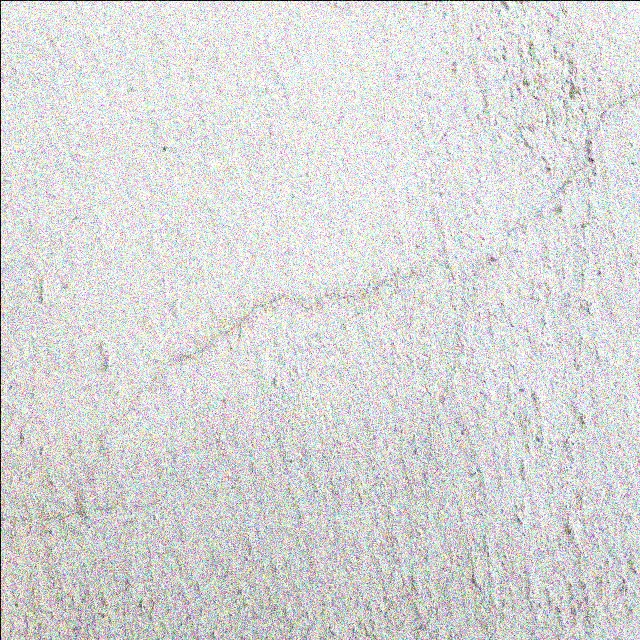SurfaceCrack: (0, 192, 639, 625)
